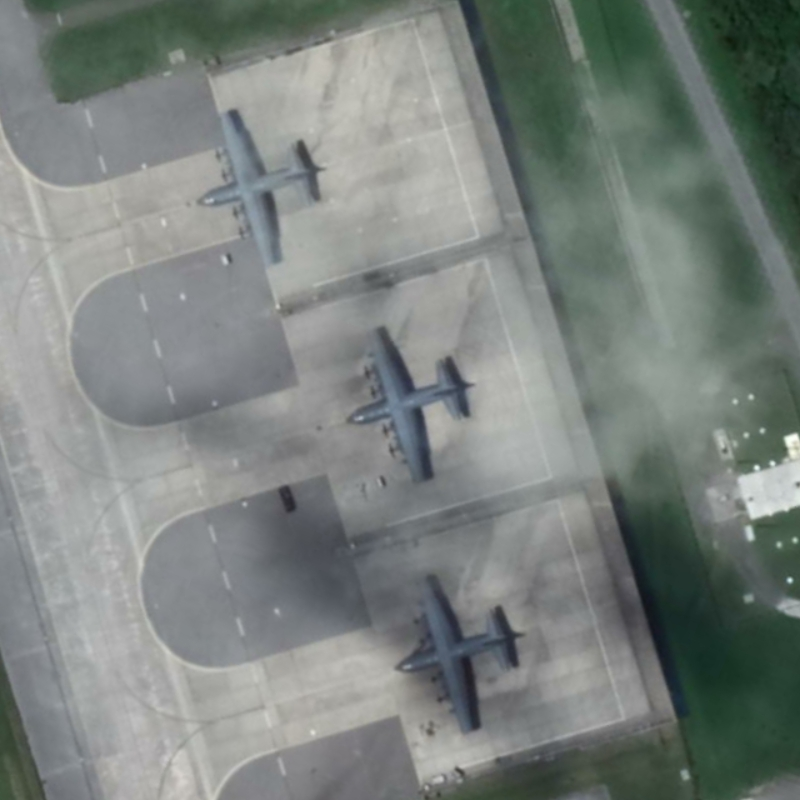A2: (339, 316, 482, 494), (383, 568, 530, 741), (190, 101, 334, 275)
